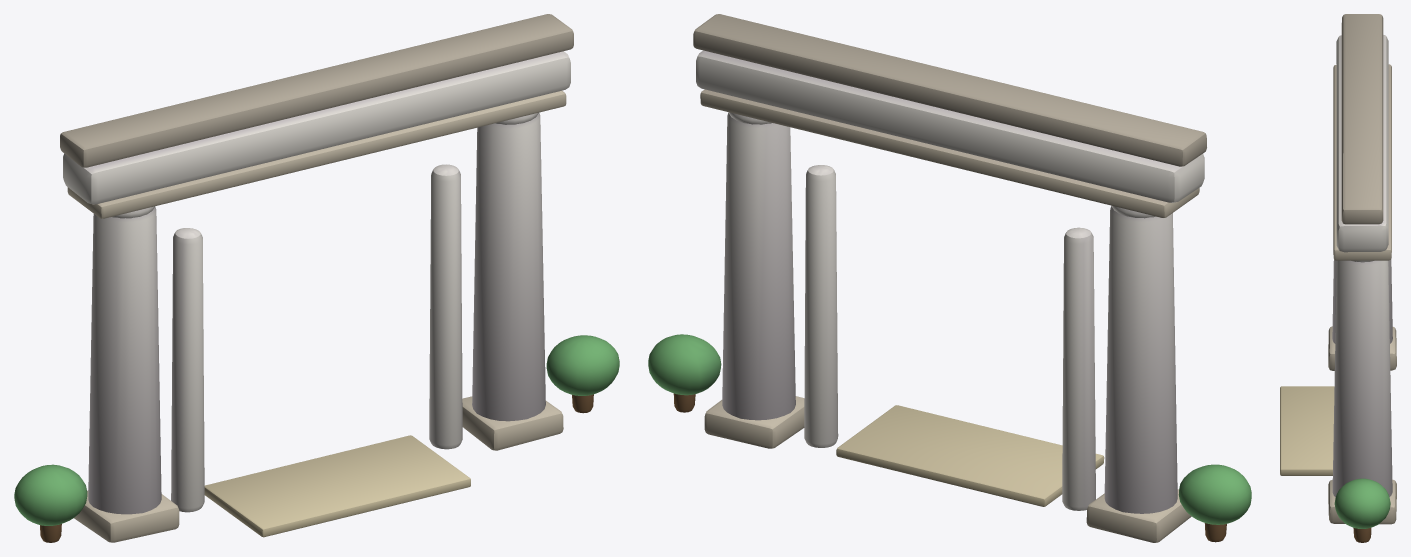
The picture shows the model from 3 angles, left to right: view 1: azimuth 30°, elevation 25°; view 2: azimuth 150°, elevation 25°; view 3: azimuth 270°, elevation 25°; orthographic projection. The views are drawn at different scales.
Parts seen in each view (by area): view 1: gate_90c4256e; view 2: gate_90c4256e; view 3: gate_90c4256e.
Part boxes in pixels (bbox=[...]): gate_90c4256e: bbox=[14, 14, 619, 542]; gate_90c4256e: bbox=[648, 14, 1251, 542]; gate_90c4256e: bbox=[1280, 14, 1396, 542].
Size of the model in its own units: 6.85 by 4.34 by 1.42.
